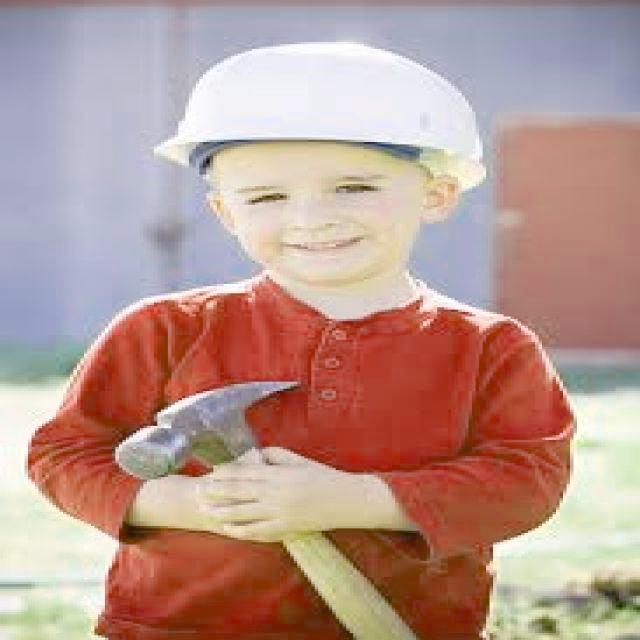hammer: (107, 365, 426, 640)
